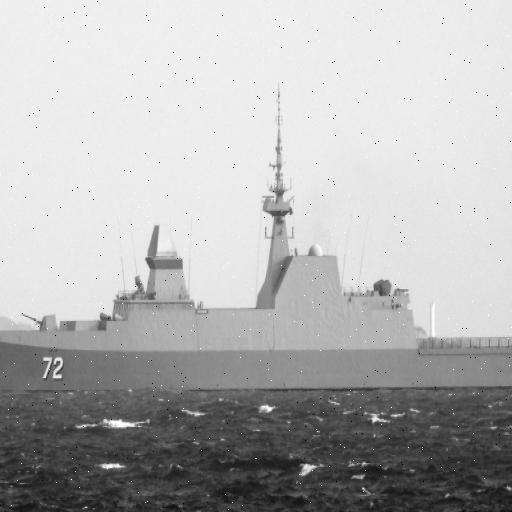Fragata: (1, 90, 512, 397)
